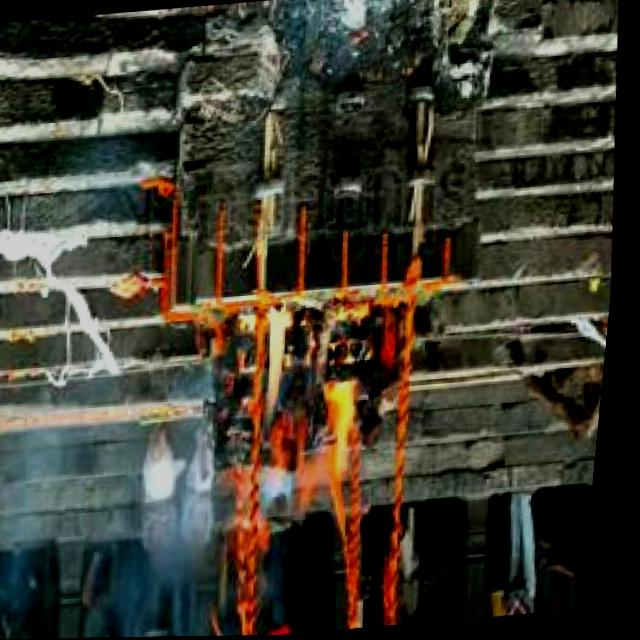no_helmet: (238, 291, 384, 527)
